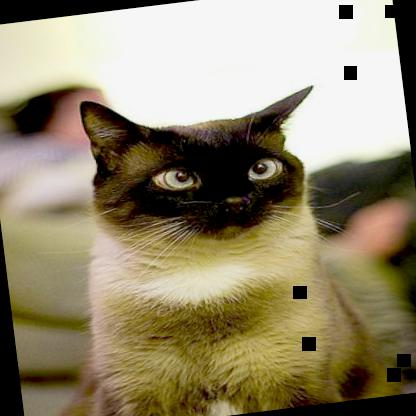cat: (11, 65, 411, 415)
